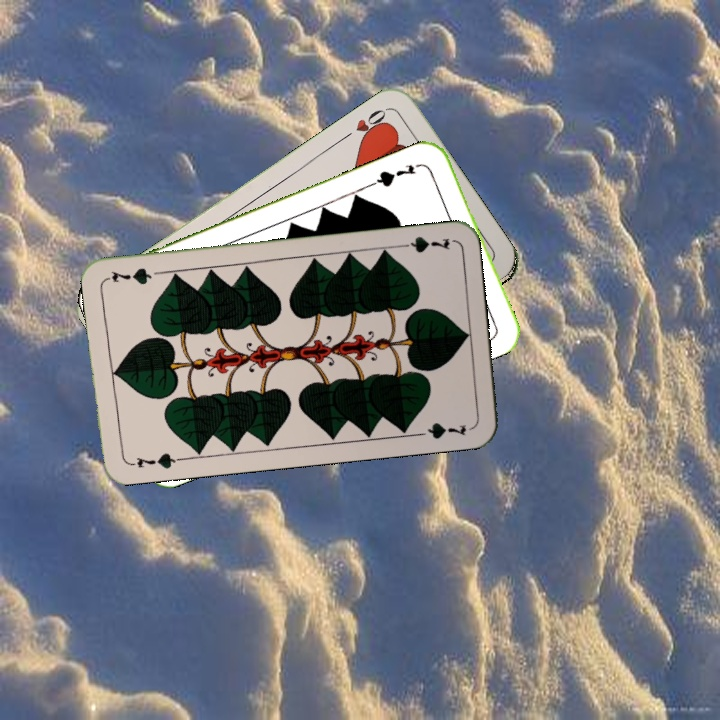G7: (370, 160, 418, 190), (394, 232, 452, 256), (125, 449, 184, 471)
HO: (337, 104, 392, 145)
